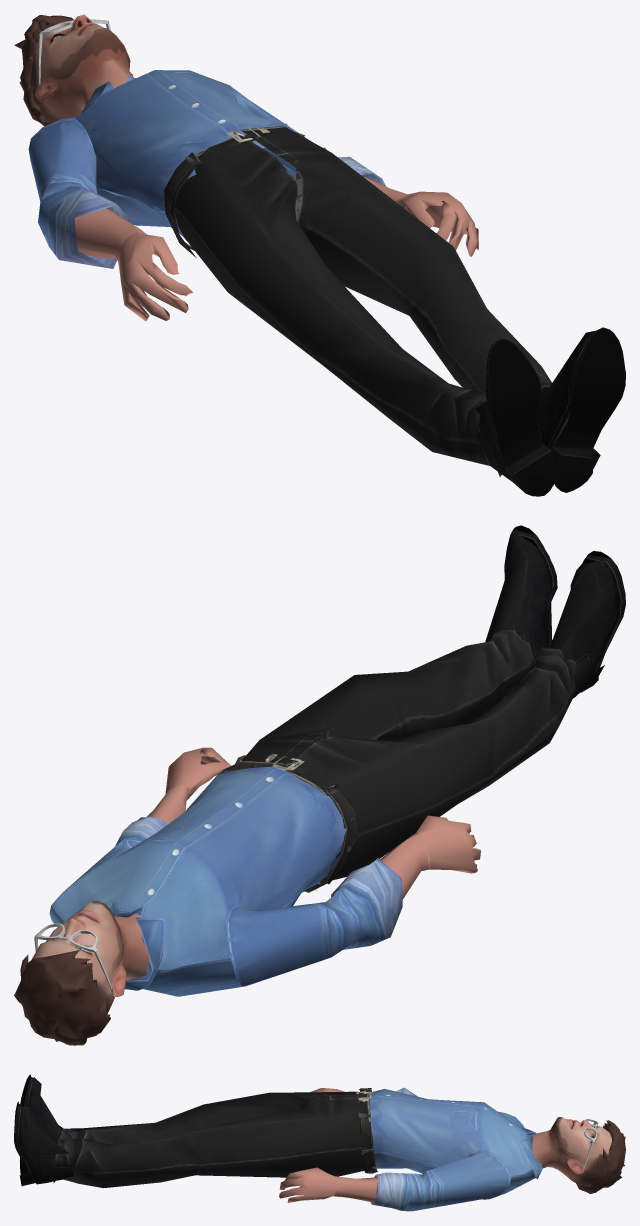
File: patient.fbx
3 renders of one model, top to bottom at view 1: azimuth 30°, elevation 25°; view 2: azimuth 150°, elevation 25°; view 3: azimuth 270°, elevation 25°, orthographic. The views are drawn at different scales.
Visible parts, largest first — view 1: man_patient; view 2: man_patient; view 3: man_patient.
Part boxes in pixels (x1=…): man_patient: x1=14, y1=14, x2=625, y2=496; man_patient: x1=14, y1=525, x2=625, y2=1045; man_patient: x1=14, y1=1074, x2=625, y2=1211.
Bounding box in the file's own units: 0.6801 × 0.328 × 1.86.
